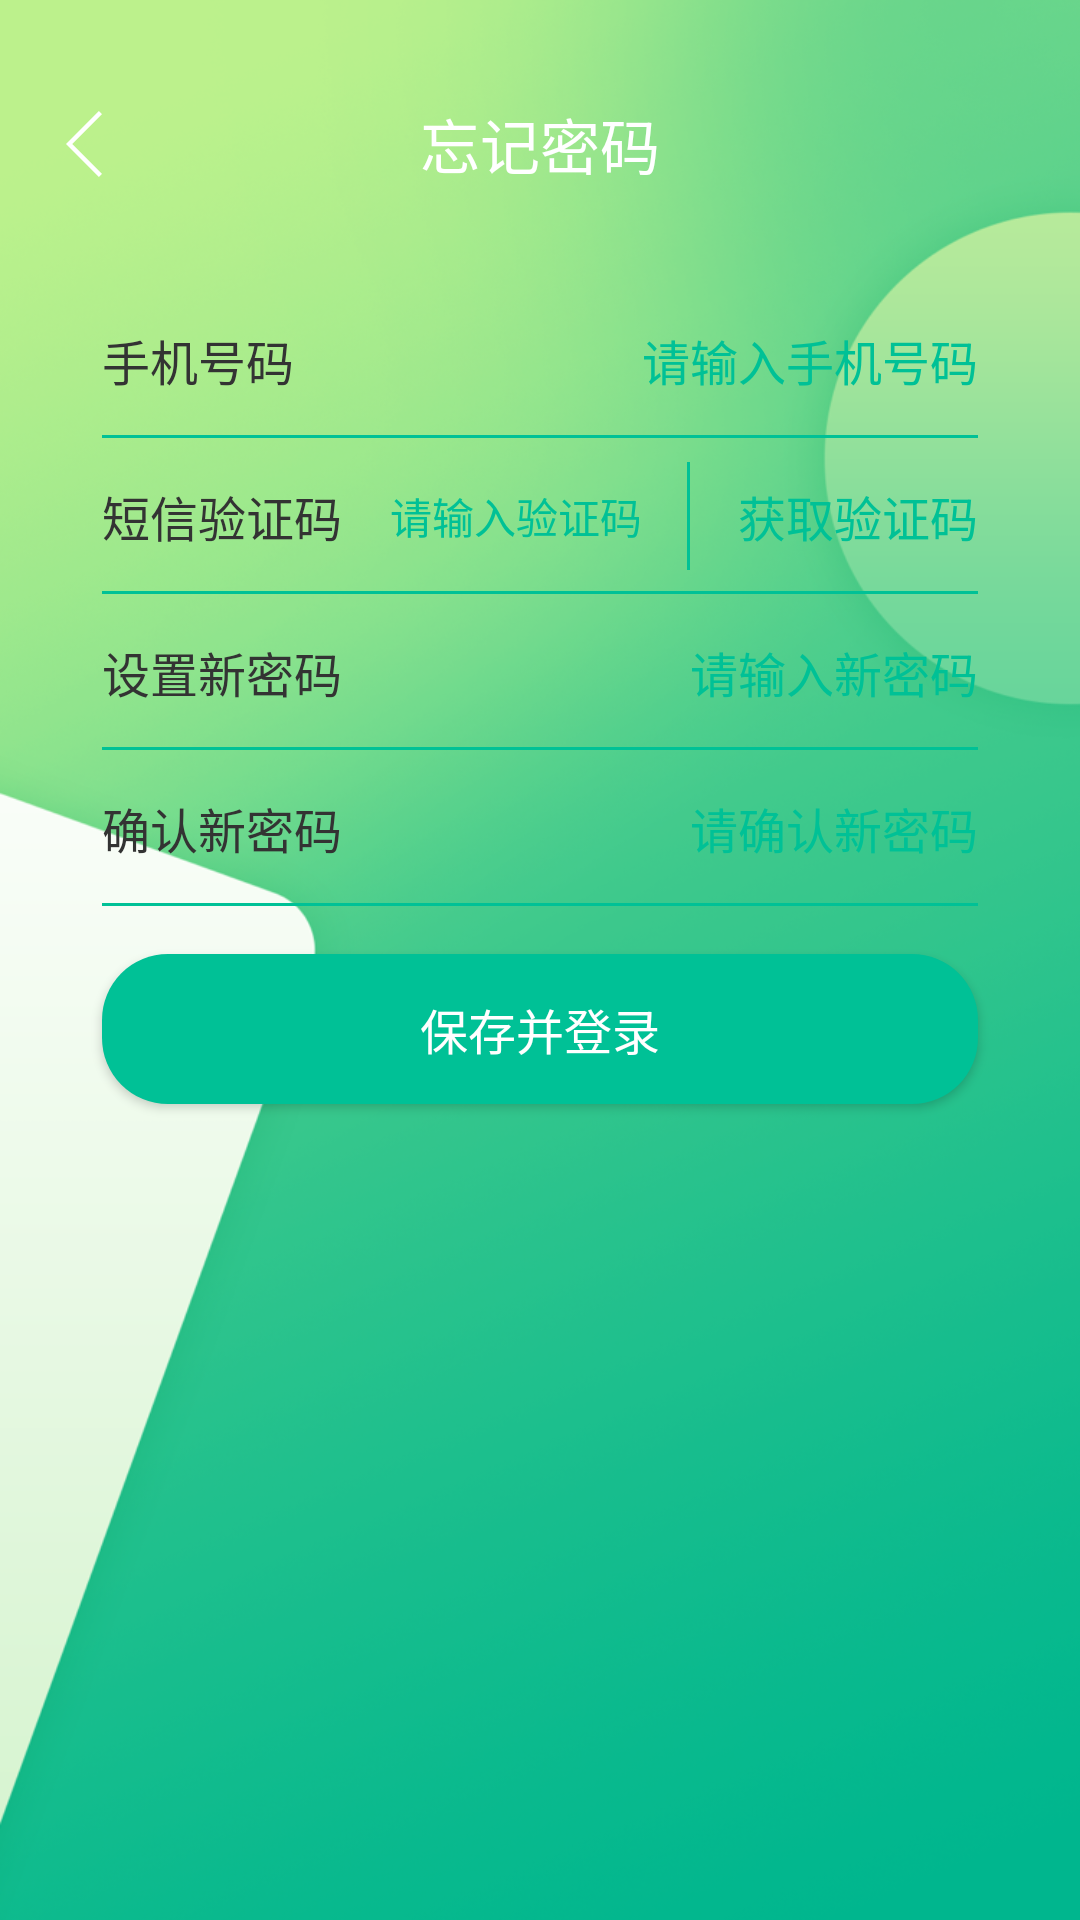

Point at icon controls on the screen. Image size 1080px×1920px, points as (x,y).
back: (84,144)
